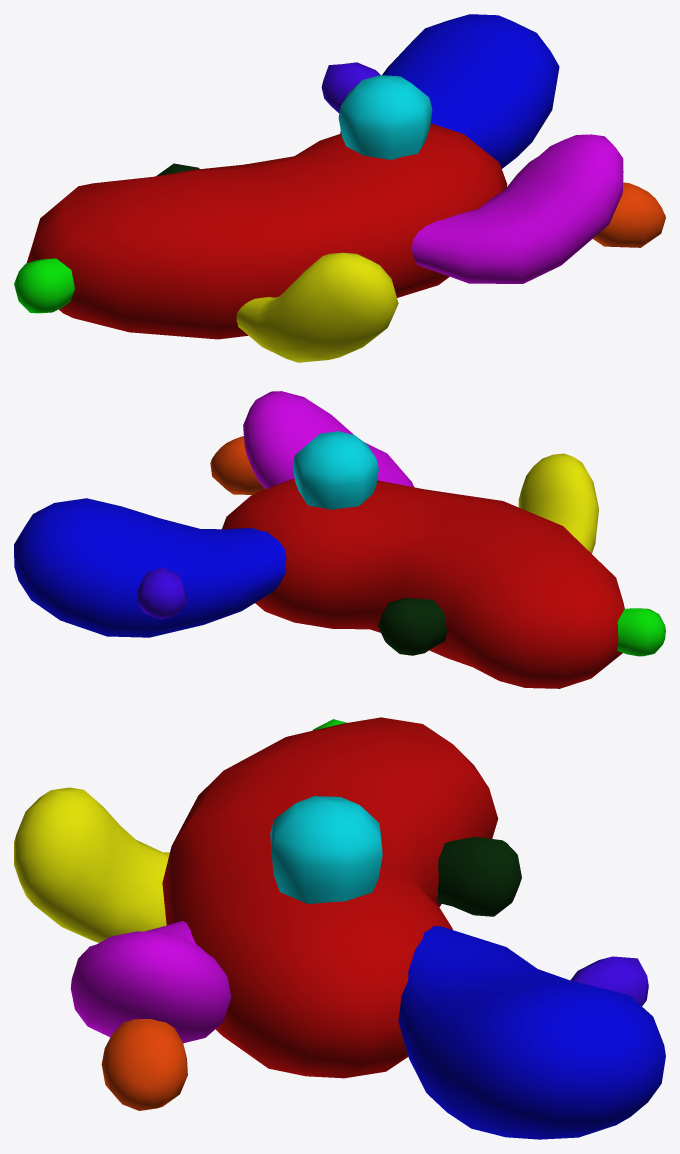
Rendered from Ginger.fbx.
3 renders of one model, top to bottom at view 1: azimuth 30°, elevation 25°; view 2: azimuth 150°, elevation 25°; view 3: azimuth 270°, elevation 25°, orthographic. The views are drawn at different scales.
Visible parts, largest first — view 1: Ginger; view 2: Ginger; view 3: Ginger.
Boxes of the visible parts, box(x1,y1,x2,y2) form: Ginger: box(14, 14, 665, 362); Ginger: box(14, 391, 665, 688); Ginger: box(14, 717, 665, 1139).
Bounding box in the file's own units: 46.38 × 14.21 × 33.59.
